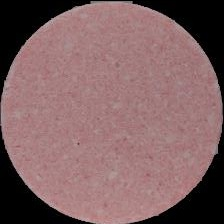50436-3989: (0, 0, 224, 224)
